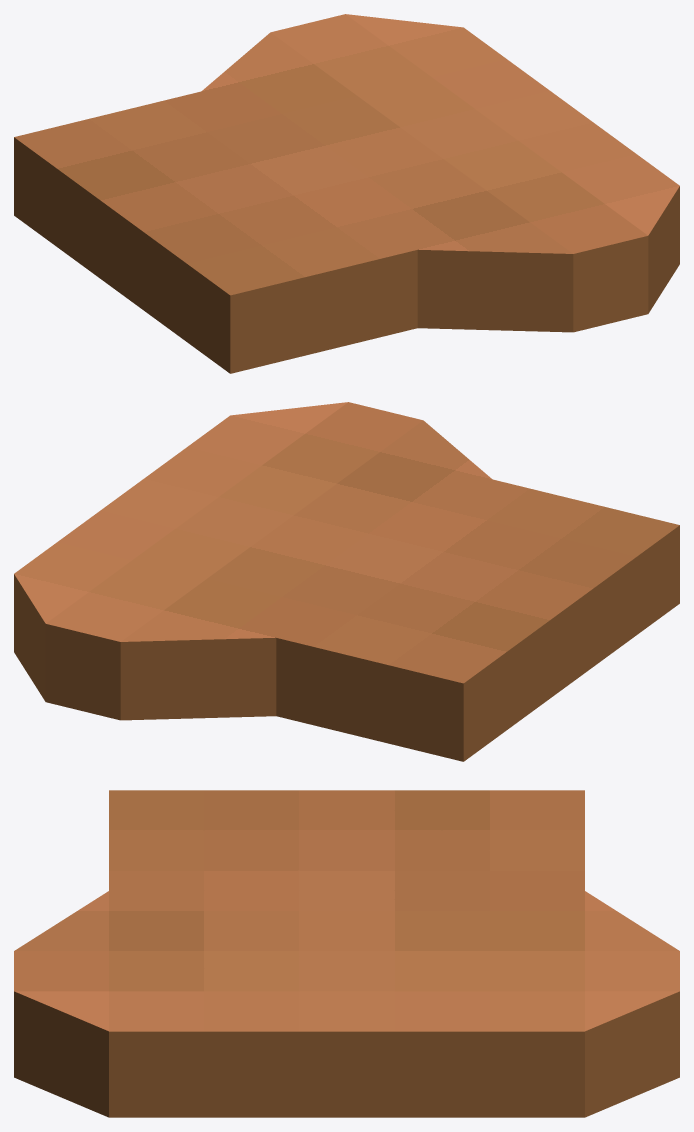
Rendered from brd.fbx.
3 renders of one model, top to bottom at view 1: azimuth 30°, elevation 25°; view 2: azimuth 150°, elevation 25°; view 3: azimuth 270°, elevation 25°, orthographic. The views are drawn at different scales.
Visible parts, largest first — view 1: bread; view 2: bread; view 3: bread.
Part boxes in pixels (x1,y1,x2,y2): bread: [14, 14, 679, 373]; bread: [14, 402, 679, 761]; bread: [14, 790, 679, 1117].
Bounding box in the file's own units: 37.5 × 6.25 × 43.75.
1 material, 1 textured.
